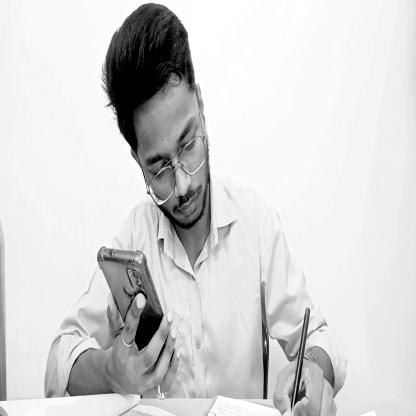Distracted: (105, 10, 213, 236)
